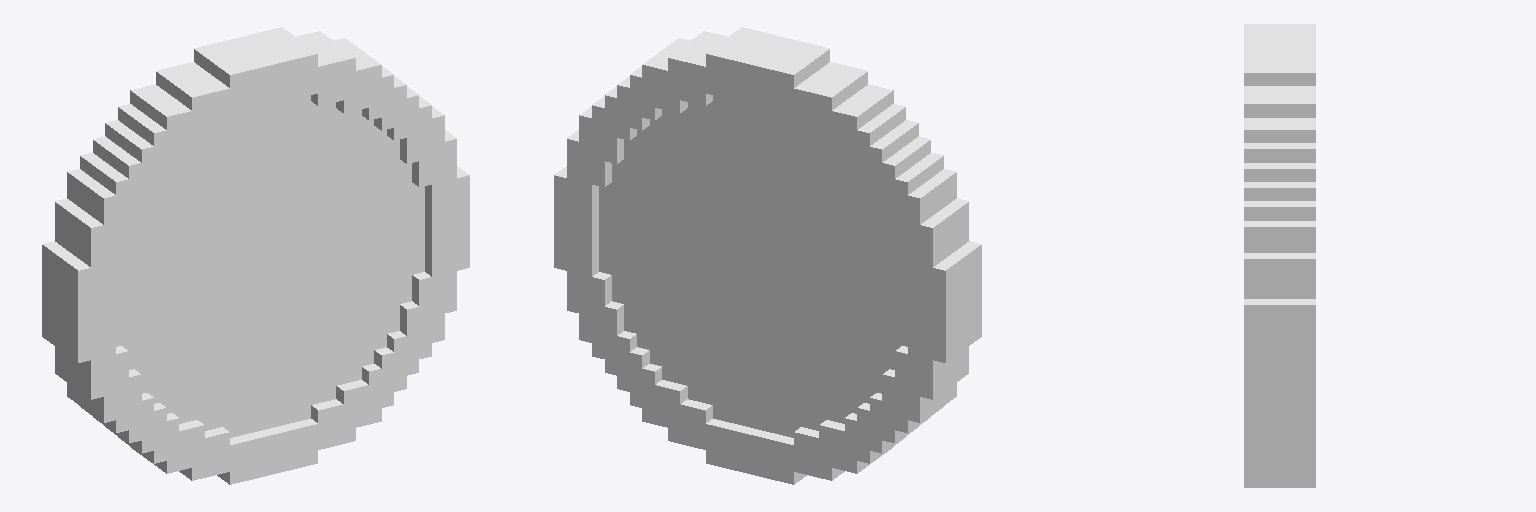
File: gold_coin_icon.obj
3 views of the same model, side by side, from view 1: azimuth 30°, elevation 25°; view 2: azimuth 150°, elevation 25°; view 3: azimuth 270°, elevation 25° (orthographic).
Bounding box in the file's own units: 31 × 31 × 5.